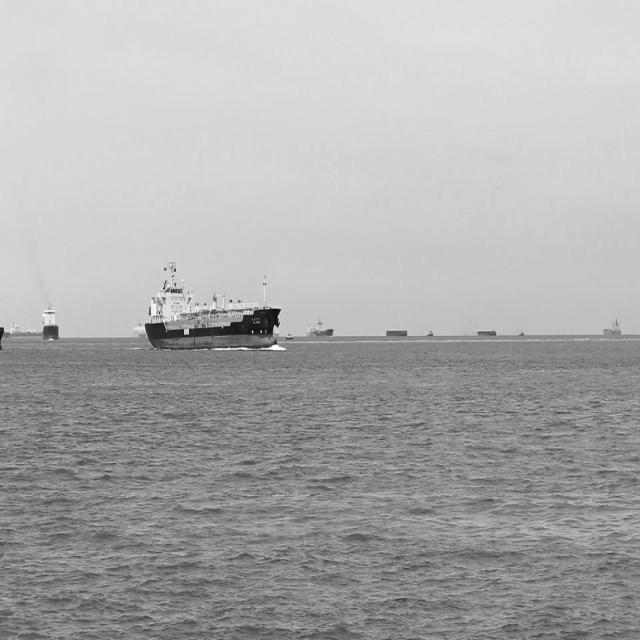ship: (143, 256, 283, 354), (0, 320, 42, 340), (43, 304, 61, 343), (305, 316, 333, 338), (601, 313, 625, 338)
